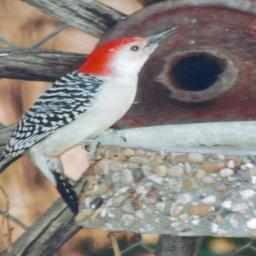Woodpecker: (0, 27, 185, 220)
